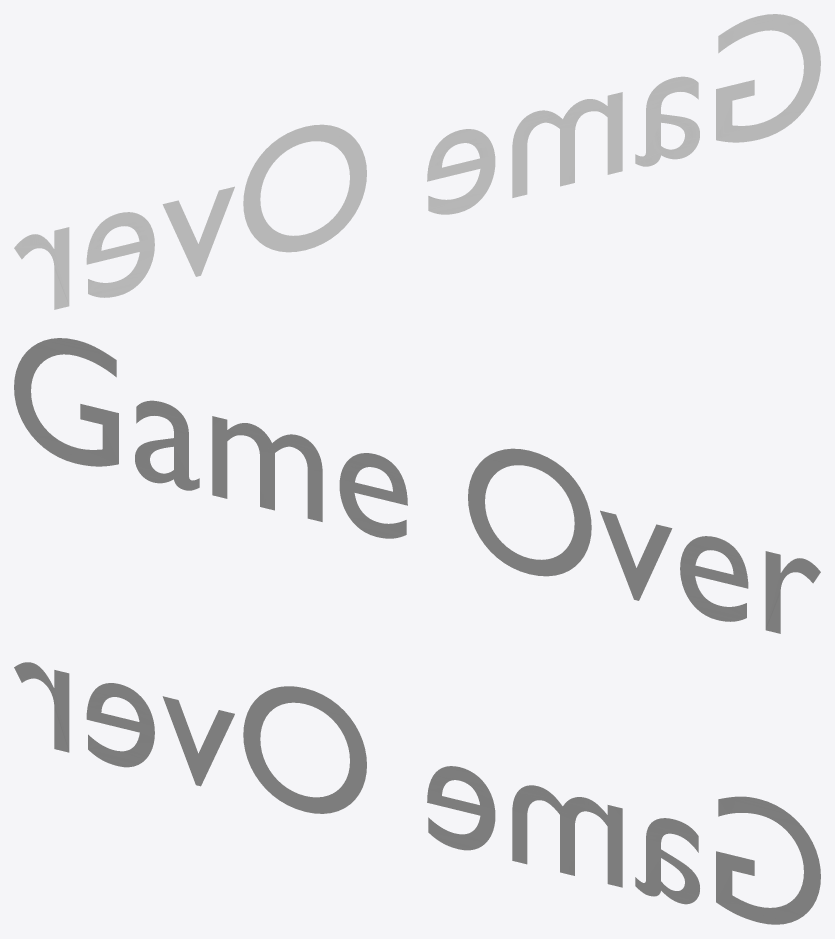
File: GameOverText.obj
The picture shows the model from 3 angles, top to bottom: view 1: azimuth 30°, elevation 25°; view 2: azimuth 150°, elevation 25°; view 3: azimuth 330°, elevation 25°; orthographic projection.
Parts seen in each view (by area): view 1: オブジェクト; view 2: オブジェクト; view 3: オブジェクト.
Boxes of the visible parts, left/top/right/bottom form: オブジェクト: left=14, top=14, right=820, bottom=309; オブジェクト: left=14, top=338, right=820, bottom=633; オブジェクト: left=14, top=662, right=820, bottom=924.
Size of the model in its own units: 4.78 by 0.7 by 0.
Materials: 1 (1 with a texture image).
